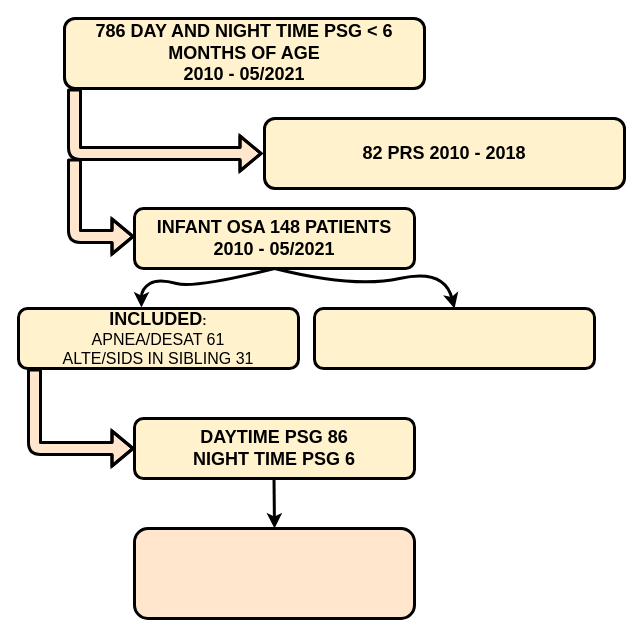
Image size: 643x637. Some labels were removed from this diagram. Here are the shapes that lost their labels. From the top down, the centre of each, then its label:
At (454,338): "EXCLUDED: LARYNGOMALACIA 29 SDR/GENETICS 27".
At (274,573): "SUPINE 92 SIDE 71 PRONE 15".
